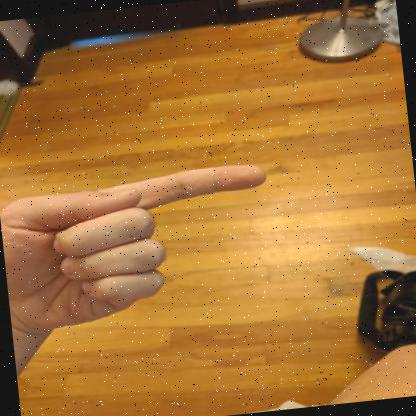G: (0, 164, 265, 336)
